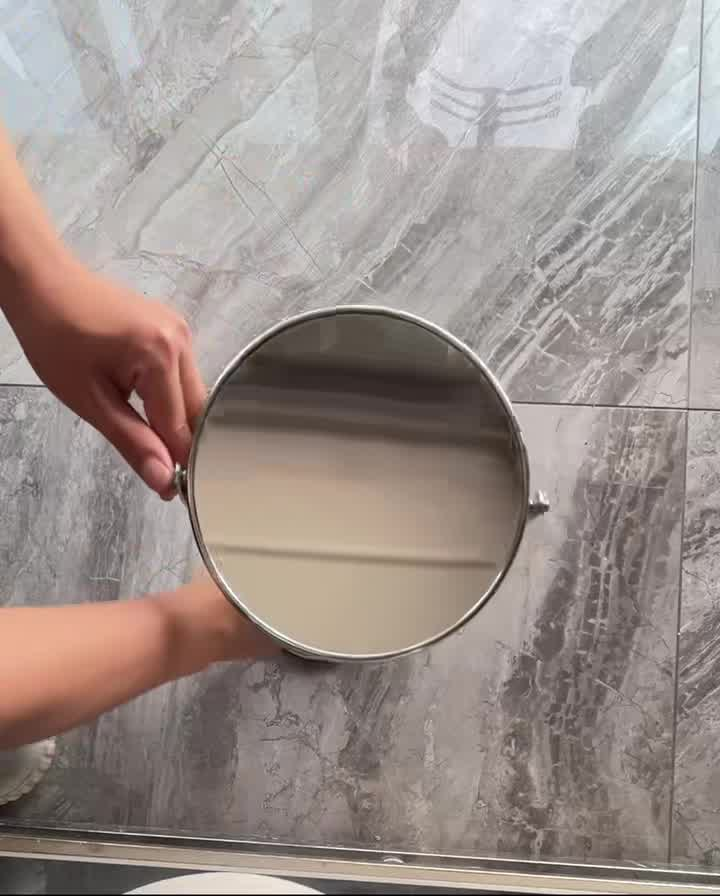mirror: (183, 301, 552, 679)
screw: (527, 495, 560, 521)
